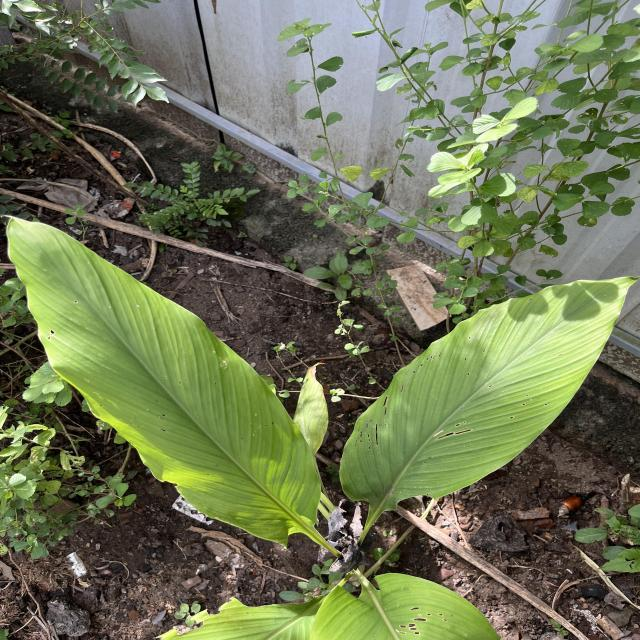Curcuma longa: (0, 211, 326, 549), (335, 272, 640, 512)
